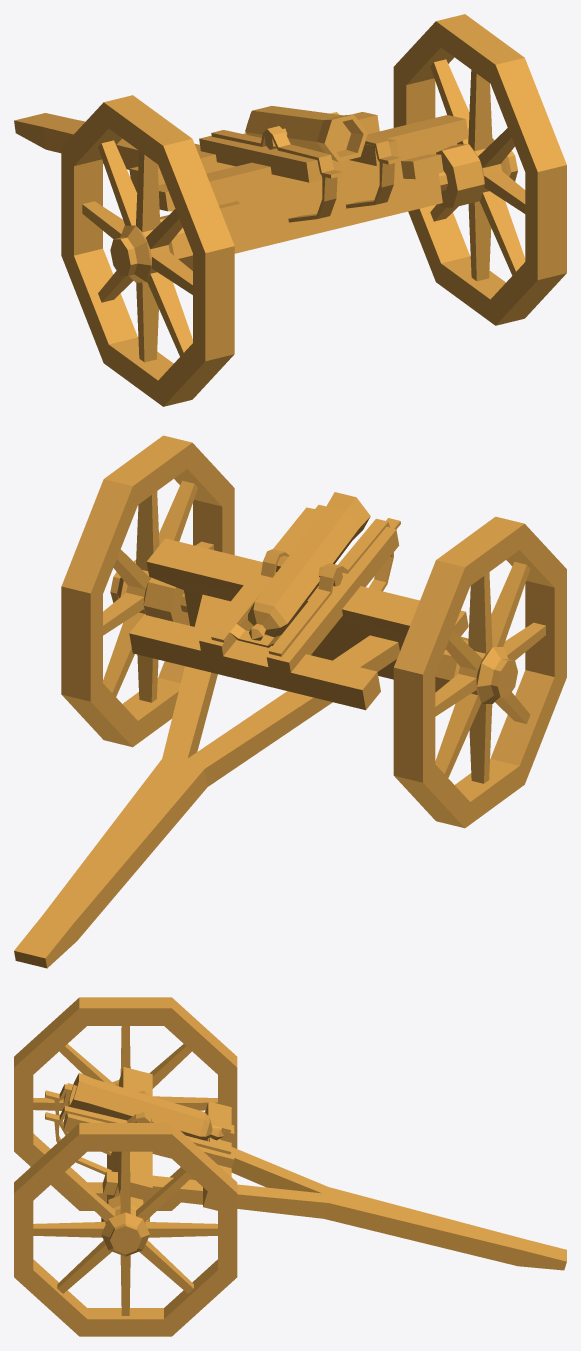
The model's file is cannon-wagon.fbx.
3 renders of one model, top to bottom at view 1: azimuth 30°, elevation 25°; view 2: azimuth 150°, elevation 25°; view 3: azimuth 270°, elevation 25°, orthographic. The views are drawn at different scales.
Parts seen in each view (by area): view 1: cannon-wagon; view 2: cannon-wagon; view 3: cannon-wagon.
Boxes of the visible parts, box(x1,y1,x2,y2) form: cannon-wagon: box(14, 14, 566, 406); cannon-wagon: box(14, 435, 566, 968); cannon-wagon: box(14, 997, 566, 1336).
Size of the model in its own units: 1.72 by 1.11 by 2.74.
